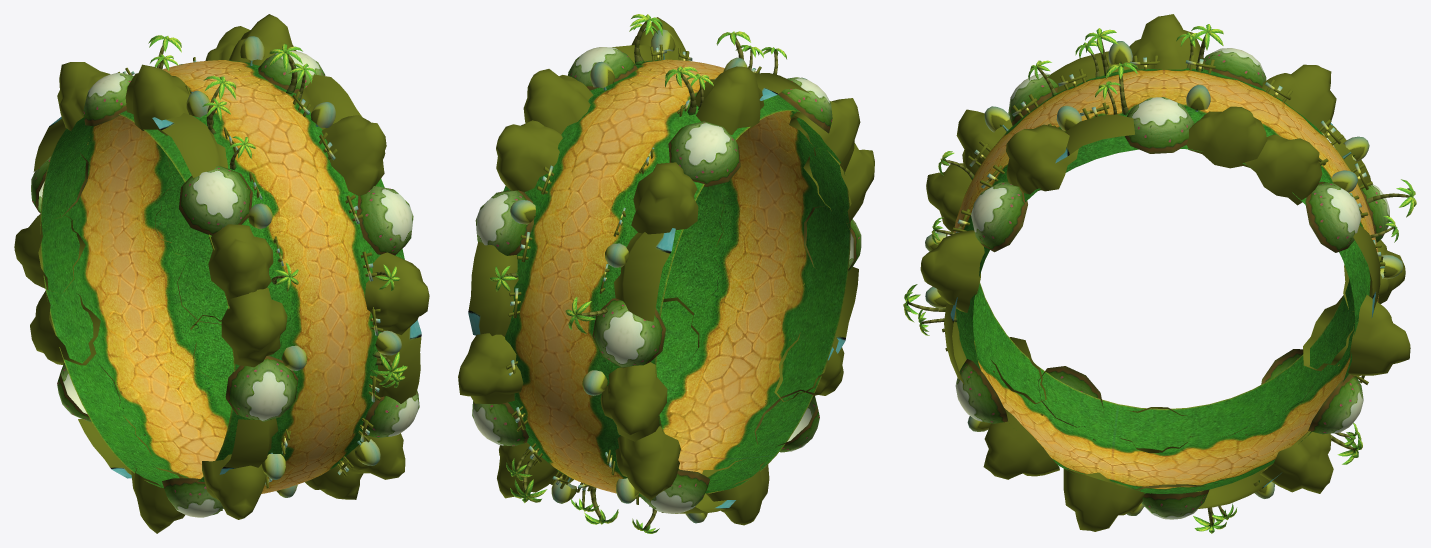
Rendered from tanxianchangjing.FBX.
The picture shows the model from 3 angles, left to right: view 1: azimuth 30°, elevation 25°; view 2: azimuth 150°, elevation 25°; view 3: azimuth 270°, elevation 25°; orthographic projection.
Parts seen in each view (by area): view 1: Sphere001, Box001; view 2: Sphere001, Box001; view 3: Box001, Sphere001.
Part boxes in pixels (x1,y1,x2,y2): Sphere001: (40,60,404,493); Box001: (14,14,429,533); Sphere001: (503,59,850,497); Box001: (458,14,874,533); Box001: (903,14,1416,533); Sphere001: (953,68,1378,493).
Bounding box in the file's own units: 1315 × 2868 × 2860.
